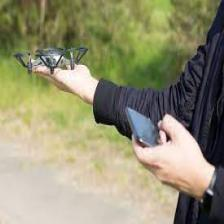drone: (13, 46, 88, 74)
